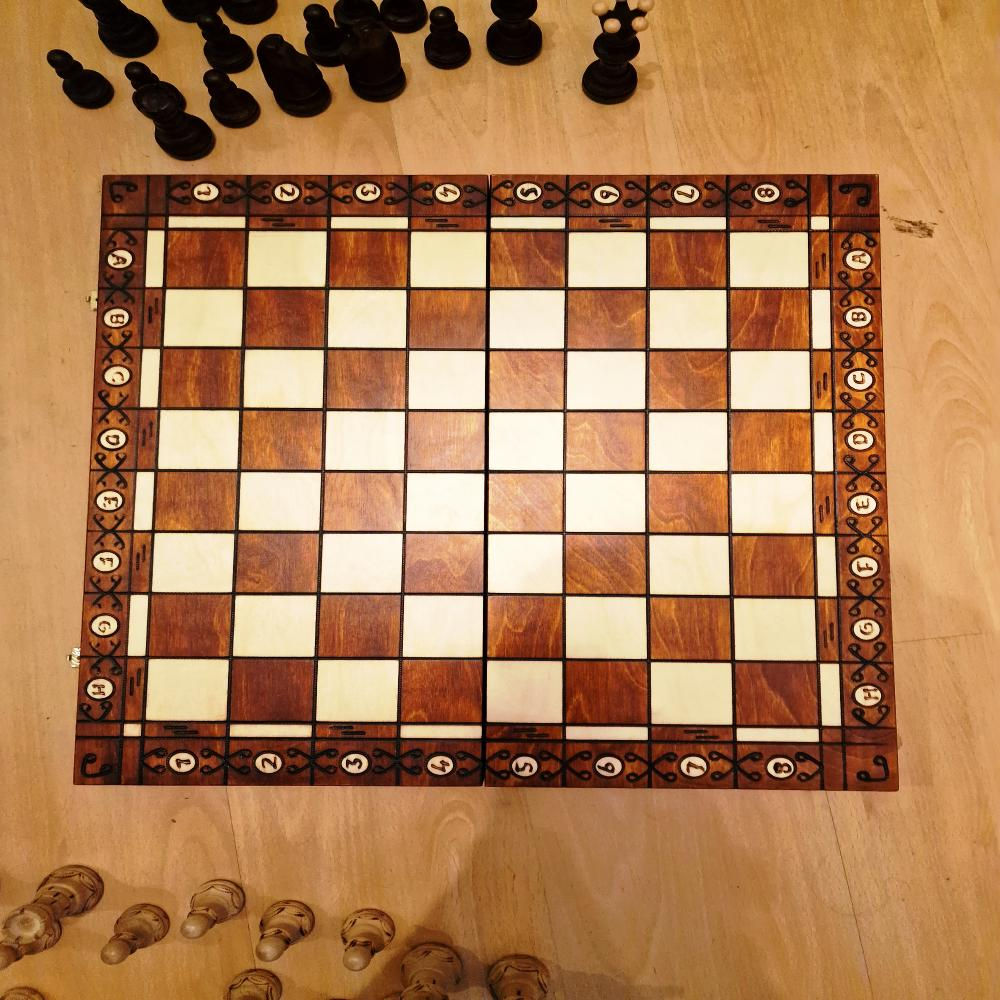chessfield: (315, 594, 401, 659), (230, 658, 317, 722), (564, 662, 648, 728), (735, 664, 817, 730), (648, 663, 731, 728), (401, 658, 484, 723), (234, 594, 318, 658), (148, 594, 232, 658), (146, 657, 228, 722), (733, 598, 817, 661), (565, 596, 647, 660), (314, 659, 397, 722), (402, 595, 485, 658), (647, 597, 730, 660), (731, 536, 816, 597), (404, 532, 486, 595), (561, 412, 643, 475), (560, 535, 643, 597), (731, 475, 814, 536), (150, 533, 233, 594), (244, 412, 327, 473), (484, 659, 563, 723), (731, 292, 811, 355), (566, 290, 647, 352), (485, 595, 563, 659), (237, 534, 320, 594), (647, 412, 727, 474), (322, 412, 403, 473), (730, 352, 812, 412), (242, 351, 324, 411), (730, 413, 812, 473), (320, 534, 402, 594), (565, 474, 647, 534), (320, 476, 402, 536), (648, 535, 728, 596), (154, 473, 235, 533), (245, 290, 326, 350), (566, 353, 648, 412), (239, 474, 322, 532), (647, 291, 727, 351), (647, 474, 727, 534), (648, 352, 728, 412), (330, 288, 410, 348), (406, 412, 486, 472), (324, 347, 404, 407), (157, 412, 237, 472), (409, 288, 487, 349), (406, 473, 485, 533), (162, 346, 241, 406), (165, 288, 246, 346), (166, 232, 247, 290), (247, 232, 327, 290), (490, 291, 567, 351), (329, 233, 410, 290), (731, 230, 812, 287), (566, 233, 647, 290), (408, 352, 486, 411), (490, 353, 568, 412), (486, 534, 562, 594), (647, 233, 726, 290), (487, 412, 562, 472), (486, 474, 562, 533), (410, 233, 488, 290), (490, 230, 567, 287)
